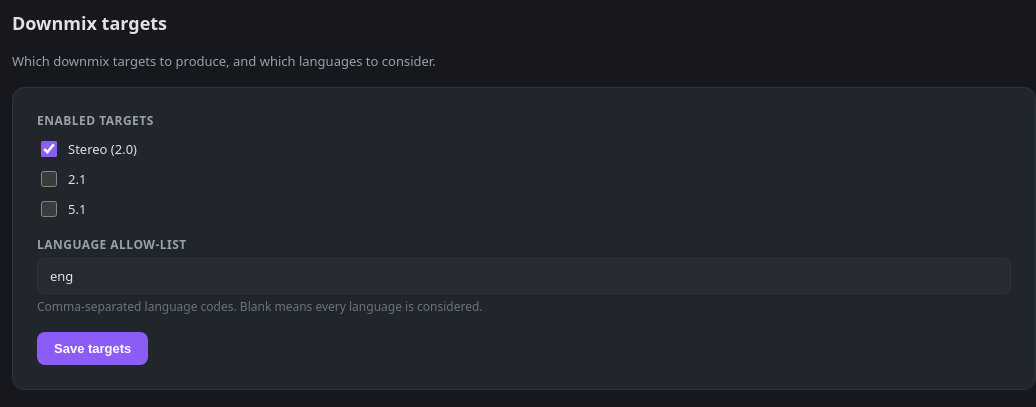
Test case: TargetsSection › toggles a target and saves via PUT
Check: the field labelled "Language allow-list" is shown, box [37, 258, 1011, 294]
Click the checkbox labelled "5.1": (49, 209) [41, 201, 57, 217]
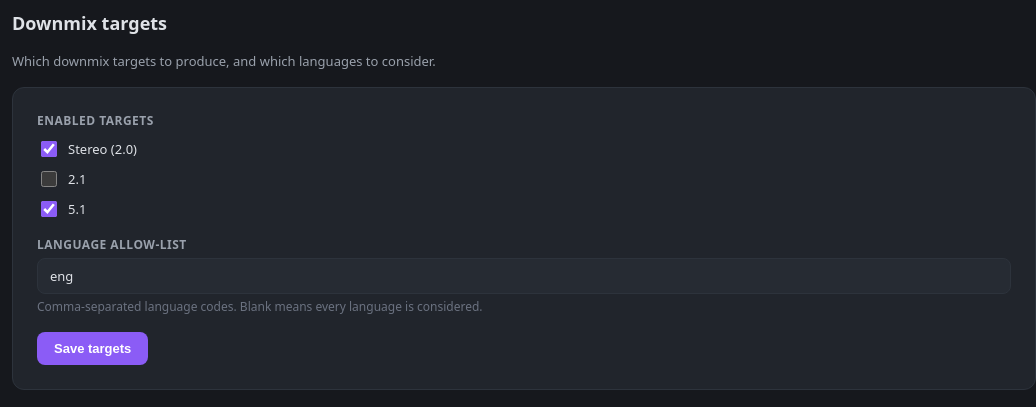
Click the button "Save targets": (93, 349) [37, 332, 148, 365]
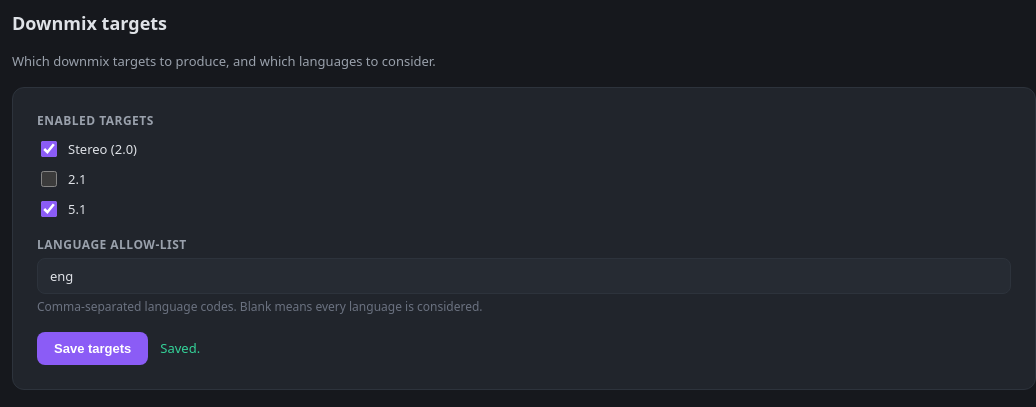
Check: the text "Saved." is shown, box [160, 339, 200, 359]
